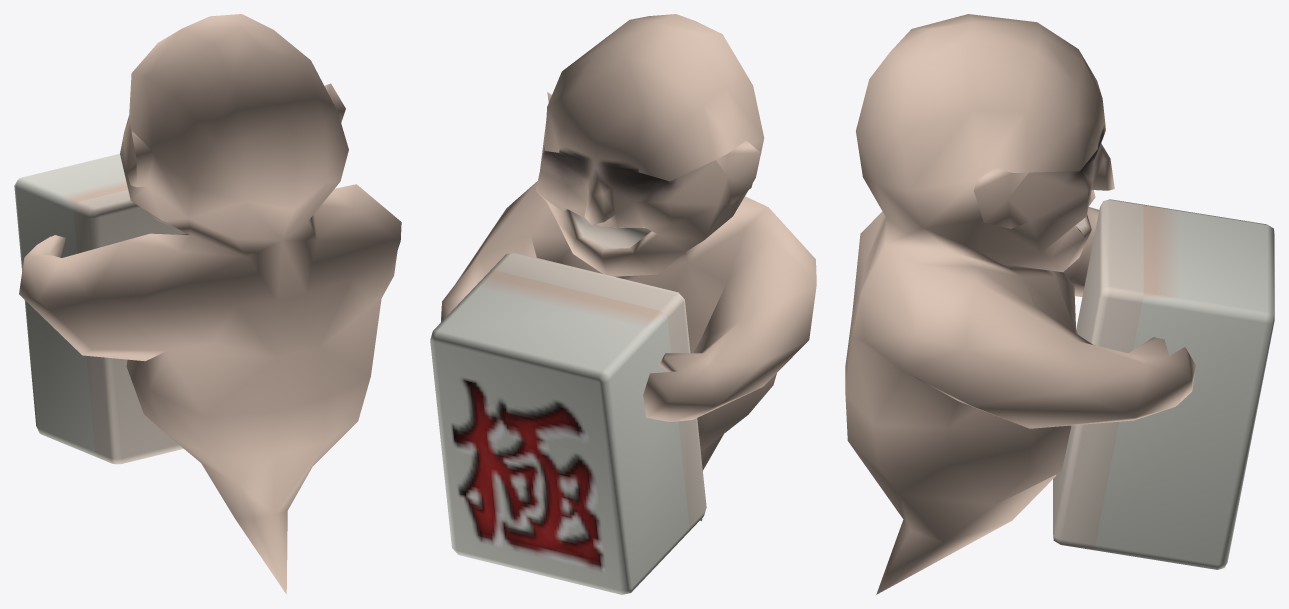
File: normal.bin.obj
The picture shows the model from 3 angles, left to right: view 1: azimuth 30°, elevation 25°; view 2: azimuth 150°, elevation 25°; view 3: azimuth 270°, elevation 25°; orthographic projection. The views are drawn at different scales.
Size of the model in its own units: 2.96 by 4.83 by 3.28.
1 material, 1 textured.
